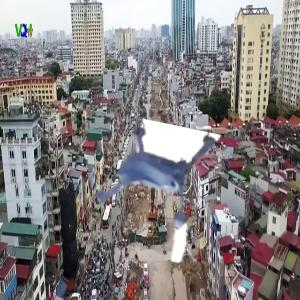drone: (69, 121, 213, 265)
